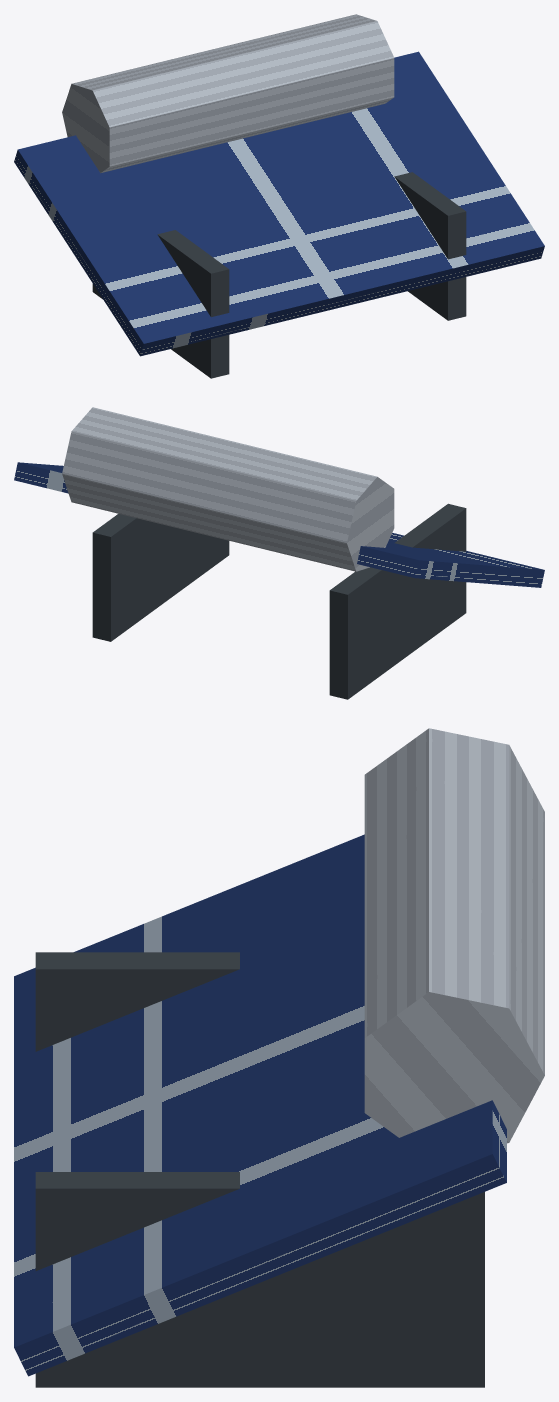
File: rooftop-solar-lod0.glb
The picture shows the model from 3 angles, top to bottom: view 1: azimuth 30°, elevation 25°; view 2: azimuth 150°, elevation 25°; view 3: azimuth 270°, elevation 25°; orthographic projection. The views are drawn at different scales.
Parts seen in each view (by area): view 1: rooftop-solar-lod0; view 2: rooftop-solar-lod0; view 3: rooftop-solar-lod0.
Part boxes in pixels (x1,y1,x2,y2): rooftop-solar-lod0: (14, 14, 544, 378); rooftop-solar-lod0: (14, 407, 544, 699); rooftop-solar-lod0: (14, 728, 544, 1387).
Size of the model in its own units: 1.76 by 0.9052 by 1.06.
Materials: 1 (1 with a texture image).
